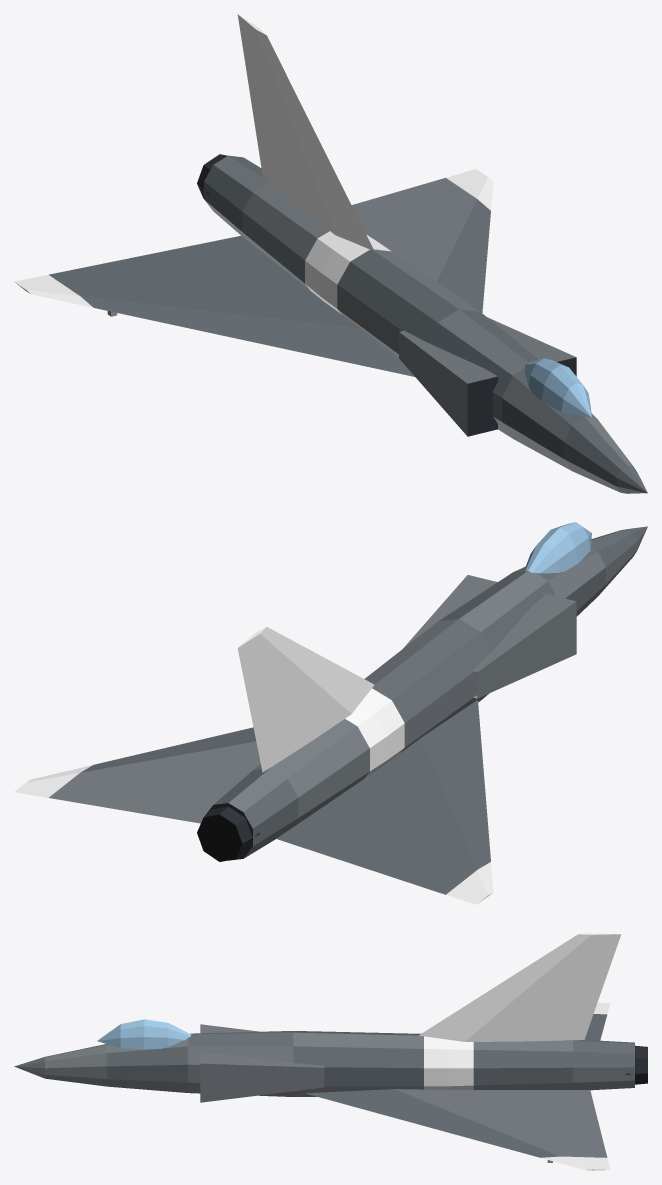
File: mirage2000_5_lod.glb
3 views of the same model, one above another, from view 1: azimuth 30°, elevation 25°; view 2: azimuth 150°, elevation 25°; view 3: azimuth 270°, elevation 25° (orthographic). The views are drawn at different scales.
Visible parts, largest first — view 1: body; view 2: body; view 3: body.
Boxes of the visible parts, bbox=[...] form: body: bbox=[14, 14, 647, 493]; body: bbox=[14, 522, 647, 904]; body: bbox=[14, 933, 647, 1170].
Bounding box in the file's own units: 9.13 × 4.22 × 14.66.
